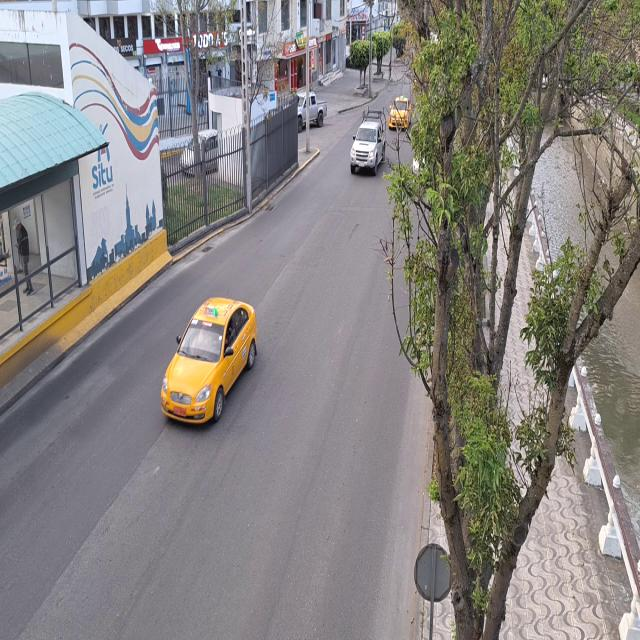CMT: (351, 121, 386, 176), (298, 93, 328, 127)
SED: (162, 299, 257, 430)
